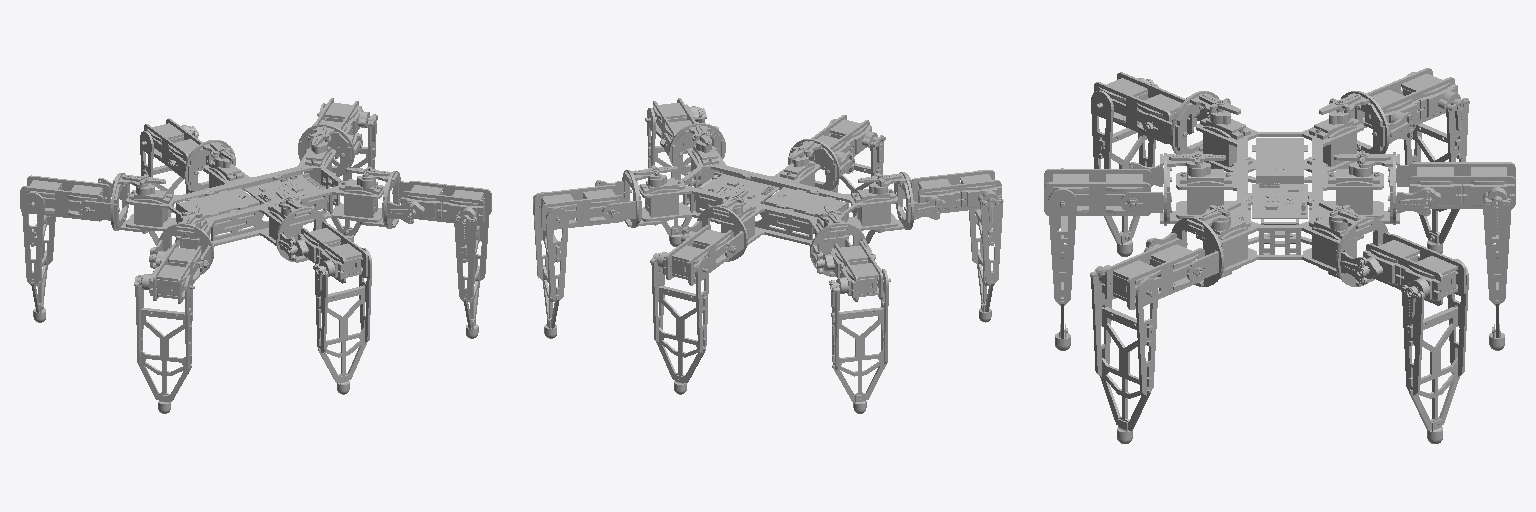
--- Render facts (derived) ---
The picture shows the robot from 3 angles, left to right: view 1: azimuth 30°, elevation 25°; view 2: azimuth 150°, elevation 25°; view 3: azimuth 270°, elevation 25°; orthographic projection.
Robot: Urdf_ConfigFiles — 37 links, 36 joints (36 revolute); root link base_link; default pose: all joints at 0.
Links seen in each view (by area): view 1: base_link, RM_XI_LINK, RB_XI_LINK, RF_ZHOU_LINK, RM_ZHOU_LINK, RF_XI_LINK, LB_XI_LINK, LB_ZHOU_LINK, RB_ZHOU_LINK, LB_JIAN_LINK, LM_ZHOU_LINK, RF_JIAN_LINK (+7 smaller); view 2: base_link, LM_XI_LINK, LB_XI_LINK, RB_ZHOU_LINK, LF_XI_LINK, LF_ZHOU_LINK, RB_XI_LINK, LM_ZHOU_LINK, LB_ZHOU_LINK, LF_JIAN_LINK, RM_ZHOU_LINK, RB_JIAN_LINK (+7 smaller); view 3: base_link, RF_XI_LINK, LF_XI_LINK, LF_ZHOU_LINK, LM_ZHOU_LINK, RF_ZHOU_LINK, RM_ZHOU_LINK, LB_ZHOU_LINK, RB_ZHOU_LINK, RB_XI_LINK, LB_XI_LINK, RM_XI_LINK (+7 smaller).
Link boxes in pixels (x1=…): base_link: x1=126, y1=134, x2=384, y2=249; RM_XI_LINK: x1=313, y1=248, x2=371, y2=394; RB_XI_LINK: x1=134, y1=275, x2=192, y2=413; RF_ZHOU_LINK: x1=401, y1=181, x2=491, y2=225; RM_ZHOU_LINK: x1=294, y1=223, x2=367, y2=283; RF_XI_LINK: x1=454, y1=195, x2=488, y2=338; LB_XI_LINK: x1=22, y1=192, x2=55, y2=322; LB_ZHOU_LINK: x1=20, y1=175, x2=110, y2=221; RB_ZHOU_LINK: x1=141, y1=243, x2=209, y2=303; LB_JIAN_LINK: x1=78, y1=173, x2=165, y2=232; LM_ZHOU_LINK: x1=141, y1=118, x2=214, y2=173; RF_JIAN_LINK: x1=346, y1=166, x2=415, y2=228; base_link: x1=638, y1=133, x2=897, y2=254; LM_XI_LINK: x1=650, y1=253, x2=708, y2=394; LB_XI_LINK: x1=829, y1=269, x2=888, y2=413; RB_ZHOU_LINK: x1=911, y1=170, x2=1001, y2=212; LF_XI_LINK: x1=533, y1=192, x2=568, y2=338; LF_ZHOU_LINK: x1=534, y1=184, x2=624, y2=230; RB_XI_LINK: x1=969, y1=170, x2=1003, y2=322; LM_ZHOU_LINK: x1=658, y1=225, x2=736, y2=285; LB_ZHOU_LINK: x1=823, y1=241, x2=890, y2=301; LF_JIAN_LINK: x1=595, y1=165, x2=677, y2=227; RM_ZHOU_LINK: x1=809, y1=115, x2=877, y2=174; RB_JIAN_LINK: x1=858, y1=172, x2=942, y2=231; base_link: x1=1176, y1=100, x2=1383, y2=274; RF_XI_LINK: x1=1090, y1=266, x2=1157, y2=443; LF_XI_LINK: x1=1400, y1=259, x2=1468, y2=443; LF_ZHOU_LINK: x1=1361, y1=234, x2=1465, y2=305; LM_ZHOU_LINK: x1=1409, y1=162, x2=1515, y2=208; RF_ZHOU_LINK: x1=1099, y1=238, x2=1204, y2=309; RM_ZHOU_LINK: x1=1044, y1=169, x2=1150, y2=215; LB_ZHOU_LINK: x1=1355, y1=68, x2=1460, y2=128; RB_ZHOU_LINK: x1=1094, y1=72, x2=1199, y2=143; RB_XI_LINK: x1=1091, y1=79, x2=1158, y2=256; LB_XI_LINK: x1=1402, y1=72, x2=1469, y2=253; RM_XI_LINK: x1=1048, y1=168, x2=1076, y2=350.
Bounding box of the posed robot: 0.316 × 0.2904 × 0.1331 m (x, y, z).
31 mesh visuals loaded from 37 distinct referenced files (31 binary STL); not drawn: 6 (reference not matched to a file when rendering).

The robot description file, URDF, robot "Urdf_ConfigFiles":
<?xml version="1.0" encoding="utf-8"?>
<!-- This URDF was automatically created by SolidWorks to URDF Exporter! Originally created by Stephen Brawner ([email redacted]) 
     Commit Version: 1.6.0-4-g7f85cfe  Build Version: 1.6.7995.38578
     For more information, please see http://wiki.ros.org/sw_urdf_exporter -->
<robot
  name="Urdf_ConfigFiles">
  <link
    name="base_link">
    <inertial>
      <origin
        xyz="-0.00495925277676378 -3.90134842870204E-05 0.00279738369756694"
        rpy="0 0 0" />
      <mass
        value="0.118532698310348" />
      <inertia
        ixx="2.97417988958695E-05"
        ixy="1.96289279267123E-08"
        ixz="-3.18825711531161E-08"
        iyy="7.40672823931806E-05"
        iyz="2.6699219579544E-10"
        izz="9.60808739626506E-05" />
    </inertial>
    <visual>
      <origin
        xyz="0 0 0"
        rpy="0 0 0" />
      <geometry>
        <mesh
          filename="package://Urdf_ConfigFiles/meshes/base_link.STL" />
      </geometry>
      <material
        name="">
        <color
          rgba="0.752941176470588 0.752941176470588 0.752941176470588 1" />
      </material>
    </visual>
    <collision>
      <origin
        xyz="0 0 0"
        rpy="0 0 0" />
      <geometry>
        <mesh
          filename="package://Urdf_ConfigFiles/meshes/base_link.STL" />
      </geometry>
    </collision>
  </link>
  <link
    name="RM_JIAN_LINK">
    <inertial>
      <origin
        xyz="0.0187543594677149 -0.000379261050061135 0.000812950598078848"
        rpy="0 0 0" />
      <mass
        value="0.00699822854338534" />
      <inertia
        ixx="9.5610462415327E-07"
        ixy="-3.93695610685643E-10"
        ixz="-7.71981360447323E-11"
        iyy="6.83941781535081E-07"
        iyz="5.4014319561666E-12"
        izz="6.84612495216708E-07" />
    </inertial>
    <visual>
      <origin
        xyz="0 0 0"
        rpy="0 0 0" />
      <geometry>
        <mesh
          filename="package://Urdf_ConfigFiles/meshes/RM_JIAN_LINK.STL" />
      </geometry>
      <material
        name="">
        <color
          rgba="0.752941176470588 0.752941176470588 0.752941176470588 1" />
      </material>
    </visual>
    <collision>
      <origin
        xyz="0 0 0"
        rpy="0 0 0" />
      <geometry>
        <mesh
          filename="package://Urdf_ConfigFiles/meshes/RM_JIAN_LINK.STL" />
      </geometry>
    </collision>
  </link>
  <joint
    name="RM_JIAN_JOINT"
    type="revolute">
    <origin
      xyz="0 -0.050828 0.0045"
      rpy="0 0 -1.5708" />
    <parent
      link="base_link" />
    <child
      link="RM_JIAN_LINK" />
    <axis
      xyz="0 0 1" />
    <limit
      lower="-1.5708"
      upper="1.5708"
      effort="0"
      velocity="0" />
  </joint>
  <link
    name="RM_ZHOU_LINK">
    <inertial>
      <origin
        xyz="0.0212109550888898 -1.20022572680017E-05 0.00316734503657168"
        rpy="0 0 0" />
      <mass
        value="0.023428071079214" />
      <inertia
        ixx="1.44008103643533E-06"
        ixy="7.11079687137408E-13"
        ixz="1.11808960635764E-14"
        iyy="3.27271769052332E-06"
        iyz="-5.61999736575962E-15"
        izz="2.55442792425579E-06" />
    </inertial>
    <visual>
      <origin
        xyz="0 0 0"
        rpy="0 0 0" />
      <geometry>
        <mesh
          filename="package://Urdf_ConfigFiles/meshes/RM_ZHOU_LINK.STL" />
      </geometry>
      <material
        name="">
        <color
          rgba="0.752941176470588 0.752941176470588 0.752941176470588 1" />
      </material>
    </visual>
    <collision>
      <origin
        xyz="0 0 0"
        rpy="0 0 0" />
      <geometry>
        <mesh
          filename="package://Urdf_ConfigFiles/meshes/RM_ZHOU_LINK.STL" />
      </geometry>
    </collision>
  </link>
  <joint
    name="RM_ZHOU_JOINT"
    type="revolute">
    <origin
      xyz="0.039955 0.0049 0.0001"
      rpy="1.5708 0 0" />
    <parent
      link="RM_JIAN_LINK" />
    <child
      link="RM_ZHOU_LINK" />
    <axis
      xyz="0 0 1" />
    <limit
      lower="-1.5708"
      upper="1.5708"
      effort="0"
      velocity="0" />
  </joint>
  <link
    name="RM_XI_LINK">
    <inertial>
      <origin
        xyz="0.0466384686418486 -7.84327888617709E-05 0.000588778480515891"
        rpy="0 0 0" />
      <mass
        value="0.00724422080433269" />
      <inertia
        ixx="4.47759491491986E-07"
        ixy="-3.05207207854443E-11"
        ixz="-3.89529951404105E-10"
        iyy="3.11680934014267E-06"
        iyz="5.401367042749E-12"
        izz="2.82563849115435E-06" />
    </inertial>
    <visual>
      <origin
        xyz="0 0 0"
        rpy="0 0 0" />
      <geometry>
        <mesh
          filename="package://Urdf_ConfigFiles/meshes/RM_XI_LINK.STL" />
      </geometry>
      <material
        name="">
        <color
          rgba="0.752941176470588 0.752941176470588 0.752941176470588 1" />
      </material>
    </visual>
    <collision>
      <origin
        xyz="0 0 0"
        rpy="0 0 0" />
      <geometry>
        <mesh
          filename="package://Urdf_ConfigFiles/meshes/RM_XI_LINK.STL" />
      </geometry>
    </collision>
  </link>
  <joint
    name="RM_XI_JOINT"
    type="revolute">
    <origin
      xyz="0.043146 0 0.004675"
      rpy="0 0 -1.5708" />
    <parent
      link="RM_ZHOU_LINK" />
    <child
      link="RM_XI_LINK" />
    <axis
      xyz="0 0 1" />
    <limit
      lower="-1.5708"
      upper="1.5708"
      effort="0"
      velocity="0" />
  </joint>
  <link
    name="RM_R_LINK">
    <inertial>
      <origin
        xyz="-6.88468379528295E-18 0 -1.38777878078145E-17"
        rpy="0 0 0" />
      <mass
        value="5.23598775598299E-07" />
      <inertia
        ixx="5.23598775598299E-14"
        ixy="0"
        ixz="0"
        iyy="5.23598775598299E-14"
        iyz="0"
        izz="5.23598775598299E-14" />
    </inertial>
    <visual>
      <origin
        xyz="0 0 0"
        rpy="0 0 0" />
      <geometry>
        <mesh
          filename="package://Urdf_ConfigFiles/meshes/RM_R_LINK.STL" />
      </geometry>
      <material
        name="">
        <color
          rgba="1 1 1 1" />
      </material>
    </visual>
    <collision>
      <origin
        xyz="0 0 0"
        rpy="0 0 0" />
      <geometry>
        <mesh
          filename="package://Urdf_ConfigFiles/meshes/RM_R_LINK.STL" />
      </geometry>
    </collision>
  </link>
  <joint
    name="RM_R_JOINT"
    type="revolute">
    <origin
      xyz="0.10465 -5E-05 0"
      rpy="3.1416 1.5708 0" />
    <parent
      link="RM_XI_LINK" />
    <child
      link="RM_R_LINK" />
    <axis
      xyz="0 0 -1" />
    <limit
      lower="-1.5708"
      upper="1.5708"
      effort="0"
      velocity="0" />
  </joint>
  <link
    name="RM_P_LINK">
    <inertial>
      <origin
        xyz="1.38777878078145E-17 -2.77555756156289E-17 -6.88468379528295E-18"
        rpy="0 0 0" />
      <mass
        value="5.23598775598299E-07" />
      <inertia
        ixx="5.23598775598299E-14"
        ixy="-6.68116840734896E-33"
        ixz="-1.55575381946529E-61"
        iyy="5.23598775598299E-14"
        iyz="-2.18952885050753E-47"
        izz="5.23598775598299E-14" />
    </inertial>
    <visual>
      <origin
        xyz="0 0 0"
        rpy="0 0 0" />
      <geometry>
        <mesh
          filename="package://Urdf_ConfigFiles/meshes/RM_P_LINK.STL" />
      </geometry>
      <material
        name="">
        <color
          rgba="1 1 1 1" />
      </material>
    </visual>
    <collision>
      <origin
        xyz="0 0 0"
        rpy="0 0 0" />
      <geometry>
        <mesh
          filename="package://Urdf_ConfigFiles/meshes/RM_P_LINK.STL" />
      </geometry>
    </collision>
  </link>
  <joint
    name="RM_P_JOINT"
    type="revolute">
    <origin
      xyz="0 0 0"
      rpy="0 1.5708 0" />
    <parent
      link="RM_R_LINK" />
    <child
      link="RM_P_LINK" />
    <axis
      xyz="0 0 1" />
    <limit
      lower="-1.5708"
      upper="1.5708"
      effort="0"
      velocity="0" />
  </joint>
  <link
    name="RM_Y_LINK">
    <inertial>
      <origin
        xyz="1.38777878078145E-17 -9.05308814025396E-18 5.55111512312578E-17"
        rpy="0 0 0" />
      <mass
        value="5.23598775598299E-07" />
      <inertia
        ixx="5.23598775598299E-14"
        ixy="0"
        ixz="0"
        iyy="5.23598775598299E-14"
        iyz="-2.18952885050753E-47"
        izz="5.23598775598299E-14" />
    </inertial>
    <visual>
      <origin
        xyz="0 0 0"
        rpy="0 0 0" />
      <geometry>
        <mesh
          filename="package://Urdf_ConfigFiles/meshes/RM_Y_LINK.STL" />
      </geometry>
      <material
        name="">
        <color
          rgba="1 1 1 1" />
      </material>
    </visual>
    <collision>
      <origin
        xyz="0 0 0"
        rpy="0 0 0" />
      <geometry>
        <mesh
          filename="package://Urdf_ConfigFiles/meshes/RM_Y_LINK.STL" />
      </geometry>
    </collision>
  </link>
  <joint
    name="RM_Y_JOINT"
    type="revolute">
    <origin
      xyz="0 0 0"
      rpy="1.5708 0 0" />
    <parent
      link="RM_P_LINK" />
    <child
      link="RM_Y_LINK" />
    <axis
      xyz="0 0 -1" />
    <limit
      lower="-1.5708"
      upper="1.5708"
      effort="0"
      velocity="0" />
  </joint>
  <link
    name="RF_JIAN_LINK">
    <inertial>
      <origin
        xyz="0.0187543594239746 -0.000379261041653148 0.000812950580056213"
        rpy="0 0 0" />
      <mass
        value="0.006998228698532" />
      <inertia
        ixx="9.56104624157523E-07"
        ixy="-3.93695610685637E-10"
        ixz="-7.71981360447407E-11"
        iyy="6.83941781705483E-07"
        iyz="5.40143195606536E-12"
        izz="6.84612495387111E-07" />
    </inertial>
    <visual>
      <origin
        xyz="0 0 0"
        rpy="0 0 0" />
      <geometry>
        <mesh
          filename="package://Urdf_ConfigFiles/meshes/RF_JIAN_LINK.STL" />
      </geometry>
      <material
        name="">
        <color
          rgba="0.752941176470588 0.752941176470588 0.752941176470588 1" />
      </material>
    </visual>
    <collision>
      <origin
        xyz="0 0 0"
        rpy="0 0 0" />
      <geometry>
        <mesh
          filename="package://Urdf_ConfigFiles/meshes/RF_JIAN_LINK.STL" />
      </geometry>
    </collision>
  </link>
  <joint
    name="RF_JIAN_JOINT"
    type="revolute">
    <origin
      xyz="0.077746 -0.036979 0.0047"
      rpy="0 0 -0.7854" />
    <parent
      link="base_link" />
    <child
      link="RF_JIAN_LINK" />
    <axis
      xyz="0 0 1" />
    <limit
      lower="-1.5708"
      upper="1.5708"
      effort="0"
      velocity="0" />
  </joint>
  <link
    name="RF_ZHOU_LINK">
    <inertial>
      <origin
        xyz="0.0212109520763576 -1.20023545394973E-05 0.00316723430018339"
        rpy="0 0 0" />
      <mass
        value="0.0234278880986834" />
      <inertia
        ixx="1.44006193707477E-06"
        ixy="-4.51032339993588E-12"
        ixz="1.20700056225565E-14"
        iyy="3.27264695060537E-06"
        iyz="-5.77126578240722E-15"
        izz="2.55438959466493E-06" />
    </inertial>
    <visual>
      <origin
        xyz="0 0 0"
        rpy="0 0 0" />
      <geometry>
        <mesh
          filename="package://Urdf_ConfigFiles/meshes/RF_ZHOU_LINK.STL" />
      </geometry>
      <material
        name="">
        <color
          rgba="0.752941176470588 0.752941176470588 0.752941176470588 1" />
      </material>
    </visual>
    <collision>
      <origin
        xyz="0 0 0"
        rpy="0 0 0" />
      <geometry>
        <mesh
          filename="package://Urdf_ConfigFiles/meshes/RF_ZHOU_LINK.STL" />
      </geometry>
    </collision>
  </link>
  <joint
    name="RF_ZHOU_JOINT"
    type="revolute">
    <origin
      xyz="0.03995 0.0047 0"
      rpy="1.5708 0 0" />
    <parent
      link="RF_JIAN_LINK" />
    <child
      link="RF_ZHOU_LINK" />
    <axis
      xyz="0 0 1" />
    <limit
      lower="-1.5708"
      upper="1.5708"
      effort="0"
      velocity="0" />
  </joint>
  <link
    name="RF_XI_LINK">
    <inertial>
      <origin
        xyz="0.0466384689069635 -7.84328003208545E-05 0.000588778477364212"
        rpy="0 0 0" />
      <mass
        value="0.00724422084311935" />
      <inertia
        ixx="4.47759491534585E-07"
        ixy="-3.05207207857134E-11"
        ixz="-3.89529951428146E-10"
        iyy="3.11680934014373E-06"
        iyz="5.40136700286257E-12"
        izz="2.82563849119695E-06" />
    </inertial>
    <visual>
      <origin
        xyz="0 0 0"
        rpy="0 0 0" />
      <geometry>
        <mesh
          filename="package://Urdf_ConfigFiles/meshes/RF_XI_LINK.STL" />
      </geometry>
      <material
        name="">
        <color
          rgba="0.752941176470588 0.752941176470588 0.752941176470588 1" />
      </material>
    </visual>
    <collision>
      <origin
        xyz="0 0 0"
        rpy="0 0 0" />
      <geometry>
        <mesh
          filename="package://Urdf_ConfigFiles/meshes/RF_XI_LINK.STL" />
      </geometry>
    </collision>
  </link>
  <joint
    name="RF_XI_JOINT"
    type="revolute">
    <origin
      xyz="0.043146 0 0.004675"
      rpy="0 0 -1.5708" />
    <parent
      link="RF_ZHOU_LINK" />
    <child
      link="RF_XI_LINK" />
    <axis
      xyz="0 0 1" />
    <limit
      lower="-1.5708"
      upper="1.5708"
      effort="0"
      velocity="0" />
  </joint>
  <link
    name="RF_R_LINK">
    <inertial>
      <origin
        xyz="5.55111512312578E-17 -1.23512311489549E-15 1.17961196366423E-15"
        rpy="0 0 0" />
      <mass
        value="5.23598775598299E-07" />
      <inertia
        ixx="5.23598775598299E-14"
        ixy="0"
        ixz="0"
        iyy="5.23598775598299E-14"
        iyz="0"
        izz="5.23598775598299E-14" />
    </inertial>
    <visual>
      <origin
        xyz="0 0 0"
        rpy="0 0 0" />
      <geometry>
        <mesh
          filename="package://Urdf_ConfigFiles/meshes/RF_R_LINK.STL" />
      </geometry>
      <material
        name="">
        <color
          rgba="1 1 1 1" />
      </material>
    </visual>
    <collision>
      <origin
        xyz="0 0 0"
        rpy="0 0 0" />
      <geometry>
        <mesh
          filename="package://Urdf_ConfigFiles/meshes/RF_R_LINK.STL" />
      </geometry>
    </collision>
  </link>
  <joint
    name="RF_R_JOINT"
    type="revolute">
    <origin
      xyz="0.10465 -5E-05 0"
      rpy="-1.5708 0.7854 1.5708" />
    <parent
      link="RF_XI_LINK" />
    <child
      link="RF_R_LINK" />
    <axis
      xyz="0 0 1" />
    <limit
      lower="-1.5708"
      upper="1.5708"
      effort="0"
      velocity="0" />
  </joint>
  <link
    name="RF_P_LINK">
    <inertial>
      <origin
        xyz="-7.35522753814166E-16 -7.07767178198537E-16 5.55111512312578E-17"
        rpy="0 0 0" />
      <mass
        value="5.23598775598299E-07" />
      <inertia
        ixx="5.23598775598299E-14"
        ixy="-1.33623368146977E-32"
        ixz="-3.11150763893057E-61"
        iyy="5.23598775598299E-14"
        iyz="-2.18952885050753E-47"
        izz="5.23598775598299E-14" />
    </inertial>
    <visual>
      <origin
        xyz="0 0 0"
        rpy="0 0 0" />
      <geometry>
        <mesh
          filename="package://Urdf_ConfigFiles/meshes/RF_P_LINK.STL" />
      </geometry>
      <material
        name="">
        <color
          rgba="1 1 1 1" />
      </material>
    </visual>
    <collision>
      <origin
        xyz="0 0 0"
        rpy="0 0 0" />
      <geometry>
        <mesh
          filename="package://Urdf_ConfigFiles/meshes/RF_P_LINK.STL" />
      </geometry>
    </collision>
  </link>
  <joint
    name="RF_P_LINK"
    type="revolute">
    <origin
      xyz="0 0 0"
      rpy="0 1.5708 0" />
    <parent
      link="RF_R_LINK" />
    <child
      link="RF_P_LINK" />
    <axis
      xyz="0 0 1" />
    <limit
      lower="-1.5708"
      upper="1.5708"
      effort="0"
      velocity="0" />
  </joint>
  <link
    name="RF_Y_LINK">
    <inertial>
      <origin
        xyz="-1.17961196366423E-15 5.55111512312578E-17 1.23512311489549E-15"
        rpy="0 0 0" />
      <mass
        value="5.23598775598299E-07" />
      <inertia
        ixx="5.23598775598299E-14"
        ixy="0"
        ixz="-7.59645419660809E-62"
        iyy="5.23598775598299E-14"
        iyz="1.87267054187694E-93"
        izz="5.23598775598299E-14" />
    </inertial>
    <visual>
      <origin
        xyz="0 0 0"
        rpy="0 0 0" />
      <geometry>
        <mesh
          filename="package://Urdf_ConfigFiles/meshes/RF_Y_LINK.STL" />
      </geometry>
      <material
        name="">
        <color
          rgba="1 1 1 1" />
      </material>
    </visual>
    <collision>
      <origin
        xyz="0 0 0"
        rpy="0 0 0" />
      <geometry>
        <mesh
          filename="package://Urdf_ConfigFiles/meshes/RF_Y_LINK.STL" />
      </geometry>
    </collision>
  </link>
  <joint
    name="RF_Y_JOINT"
    type="revolute">
    <origin
      xyz="0 0 0"
      rpy="1.5708 0 0" />
    <parent
      link="RF_P_LINK" />
    <child
      link="RF_Y_LINK" />
    <axis
      xyz="0 0 -1" />
    <limit
      lower="-1.5708"
      upper="1.5708"
      effort="0"
      velocity="0" />
  </joint>
  <link
    name="LF_JIAN_LINK">
    <inertial>
      <origin
        xyz="0.0187543594239746 -0.000379261041653173 0.000812950580056271"
        rpy="0 0 0" />
      <mass
        value="0.006998228698532" />
      <inertia
        ixx="9.56104624157522E-07"
        ixy="-3.9369561068569E-10"
        ixz="-7.71981360439546E-11"
        iyy="6.83941781705483E-07"
        iyz="5.40143195614686E-12"
        izz="6.8461249538711E-07" />
    </inertial>
    <visual>
      <origin
        xyz="0 0 0"
        rpy="0 0 0" />
      <geometry>
        <mesh
          filename="package://Urdf_ConfigFiles/meshes/LF_JIAN_LINK.STL" />
      </geometry>
      <material
        name="">
        <color
          rgba="0.752941176470588 0.752941176470588 0.752941176470588 1" />
      </material>
    </visual>
    <collision>
      <origin
        xyz="0 0 0"
        rpy="0 0 0" />
      <geometry>
        <mesh
          filename="package://Urdf_ConfigFiles/meshes/LF_JIAN_LINK.STL" />
      </geometry>
    </collision>
  </link>
  <joint
    name="LF_JIAN_JOINT"
    type="revolute">
    <origin
      xyz="0.077746 0.036979 0.0047"
      rpy="0 0 0.7854" />
    <parent
      link="base_link" />
    <child
      link="LF_JIAN_LINK" />
    <axis
      xyz="0 0 1" />
    <limit
      lower="-1.5708"
      upper="1.5708"
      effort="0"
      velocity="0" />
  </joint>
  <link
    name="LF_ZHOU_LINK">
    <inertial>
      <origin
        xyz="0.0212109520763105 -1.20023545296362E-05 0.00316723430032838"
        rpy="0 0 0" />
      <mass
        value="0.0234278880989933" />
      <inertia
        ixx="1.44006193710144E-06"
        ixy="-4.51031569642036E-12"
        ixz="1.20666170143106E-14"
        iyy="3.27264695063795E-06"
        iyz="-5.77408521079948E-15"
        izz="2.55438959467984E-06" />
    </inertial>
    <visual>
      <origin
        xyz="0 0 0"
        rpy="0 0 0" />
      <geometry>
        <mesh
          filename="package://Urdf_ConfigFiles/meshes/LF_ZHOU_LINK.STL" />
      </geometry>
      <material
        name="">
        <color
          rgba="0.752941176470588 0.752941176470588 0.752941176470588 1" />
      </material>
    </visual>
    <collision>
      <origin
        xyz="0 0 0"
        rpy="0 0 0" />
      <geometry>
        <mesh
          filename="package://Urdf_ConfigFiles/meshes/LF_ZHOU_LINK.STL" />
      </geometry>
    </collision>
  </link>
  <joint
    name="LF_ZHOU_JOINT"
    type="revolute">
    <origin
      xyz="0.03995 0.0047 0"
      rpy="1.5708 0 0" />
    <parent
      link="LF_JIAN_LINK" />
    <child
      link="LF_ZHOU_LINK" />
    <axis
      xyz="0 0 1" />
    <limit
      lower="-1.5708"
      upper="1.5708"
      effort="0"
      velocity="0" />
  </joint>
  <link
    name="LF_XI_LINK">
    <inertial>
      <origin
        xyz="0.046638468906964 -2.84328003209711E-05 0.000588778477360656"
        rpy="0 0 0" />
      <mass
        value="0.00724422084311936" />
      <inertia
        ixx="4.47759491534586E-07"
        ixy="-3.05207207856908E-11"
        ixz="-3.89529951402964E-10"
        iyy="3.11680934014374E-06"
        iyz="5.40136704277916E-12"
        izz="2.82563849119696E-06" />
    </inertial>
    <visual>
      <origin
        xyz="0 0 0"
        rpy="0 0 0" />
      <geometry>
        <mesh
          filename="package://Urdf_ConfigFiles/meshes/LF_XI_LINK.STL" />
      </geometry>
      <material
        name="">
        <color
          rgba="0.752941176470588 0.752941176470588 0.752941176470588 1" />
      </material>
    </visual>
    <collision>
      <origin
        xyz="0 0 0"
        rpy="0 0 0" />
      <geometry>
        <mesh
          filename="package://Urdf_ConfigFiles/meshes/LF_XI_LINK.STL" />
      </geometry>
    </collision>
  </link>
  <joint
    name="LF_XI_JOINT"
    type="revolute">
    <origin
      xyz="0.043096 0 0.004675"
      rpy="0 0 -1.5708" />
    <parent
      link="LF_ZHOU_LINK" />
    <child
      link="LF_XI_LINK" />
    <axis
      xyz="0 0 1" />
    <limit
      lower="-1.5708"
      upper="1.5708"
      effort="0"
      velocity="0" />
  </joint>
  <link
    name="LF_R_LINK">
    <inertial>
      <origin
        xyz="5.55111512312578E-17 2.77555756156289E-17 4.16333634234434E-17"
        rpy="0 0 0" />
      <mass
        value="5.23598775598299E-07" />
      <inertia
        ixx="5.23598775598299E-14"
        ixy="-1.46626343100792E-72"
        ixz="0"
        iyy="5.23598775598299E-14"
        iyz="0"
        izz="5.23598775598299E-14" />
    </inertial>
    <visual>
      <origin
        xyz="0 0 0"
        rpy="0 0 0" />
      <geometry>
        <mesh
          filename="package://Urdf_ConfigFiles/meshes/LF_R_LINK.STL" />
      </geometry>
      <material
        name="">
        <color
          rgba="1 1 1 1" />
      </material>
    </visual>
    <collision>
      <origin
        xyz="0 0 0"
        rpy="0 0 0" />
      <geometry>
        <mesh
          filename="package://Urdf_ConfigFiles/meshes/LF_R_LINK.STL" />
      </geometry>
    </collision>
  </link>
  <joint
    name="LF_R_JOINT"
    type="revolute">
    <origin
      xyz="0.10465 0 0"
      rpy="-1.5708 -0.7854 1.5708" />
    <parent
      link="LF_XI_LINK" />
    <child
      link="LF_R_LINK" />
    <axis
      xyz="0 0 -1" />
    <limit
      lower="-1.5708"
      upper="1.5708"
      effort="0"
      velocity="0" />
  </joint>
  <link
    name="LF_P_LINK">
    <inertial>
      <origin
        xyz="-4.16333634234434E-17 2.77555756156289E-17 5.55111512312578E-17"
        rpy="0 0 0" />
      <mass
        value="5.23598775598299E-07" />
      <inertia
        ixx="5.23598775598299E-14"
        ixy="1.12284965133098E-45"
        ixz="-9.28514645213293E-47"
        iyy="5.23598775598299E-14"
        iyz="6.07153216591882E-31"
        izz="5.23598775598299E-14" />
    </inertial>
    <visual>
      <origin
        xyz="0 0 0"
        rpy="0 0 0" />
      <geometry>
        <mesh
          filename="package://Urdf_ConfigFiles/meshes/LF_P_LINK.STL" />
      </geometry>
      <material
        name="">
        <color
          rgba="1 1 1 1" />
      </material>
    </visual>
    <collision>
      <origin
        xyz="0 0 0"
        rpy="0 0 0" />
      <geometry>
        <mesh
          filename="package://Urdf_ConfigFiles/meshes/LF_P_LINK.STL" />
      </geometry>
    </collision>
  </link>
  <joint
    name="LF_P_JOINT"
    type="revolute">
    <origin
      xyz="0 0 0"
      rpy="0 1.5708 0" />
    <parent
      link="LF_R_LINK" />
    <child
      link="LF_P_LINK" />
    <axis
      xyz="0 0 -1" />
    <limit
      lower="-1.5708"
      upper="1.5708"
      effort="0"
      velocity="0" />
  </joint>
  <link
    name="LF_Y_LINK">
    <inertial>
      <origin
        xyz="0 2.77555756156289E-17 -1.38777878078145E-17"
        rpy="0 0 0" />
      <mass
        value="5.23598775598299E-07" />
      <inertia
        ixx="5.23598775598299E-14"
        ixy="0"
        ixz="0"
        iyy="5.23598775598299E-14"
        iyz="1.46626343100792E-72"
        izz="5.23598775598299E-14" />
    </inertial>
    <visual>
      <origin
        xyz="0 0 0"
        rpy="0 0 0" />
      <geometry>
        <mesh
          filename="package://Urdf_ConfigFiles/meshes/LF_Y_LINK.STL" />
      </geometry>
      <material
        name="">
        <color
          rgba="1 1 1 1" />
      </material>
    </visual>
    <collision>
      <origin
        xyz="0 0 0"
        rpy="0 0 0" />
      <geometry>
        <mesh
          filename="package://Urdf_ConfigFiles/meshes/LF_Y_LINK.STL" />
      </geometry>
    </collision>
  </link>
  <joint
    name="LF_Y_JOINT"
    type="revolute">
    <origin
      xyz="0 0 0"
      rpy="1.5708 0 0" />
    <parent
      link="LF_P_LINK" />
    <child
      link="LF_Y_LINK" />
    <axis
      xyz="0 0 -1" />
    <limit
      lower="-1.5708"
      upper="1.5708"
      effort="0"
      velocity="0" />
  </joint>
  <link
    name="LM_JIAN_LINK">
    <inertial>
      <origin
        xyz="0.0187543594677149 -0.000379261050061133 0.000812950598078908"
        rpy="0 0 0" />
      <mass
        value="0.00699822854338534" />
      <inertia
        ixx="9.5610462415327E-07"
        ixy="-3.93695610685641E-10"
        ixz="-7.71981360440999E-11"
        iyy="6.83941781535081E-07"
        iyz="5.40143195618265E-12"
        izz="6.84612495216709E-07" />
    </inertial>
    <visual>
      <origin
        xyz="0 0 0"
        rpy="0 0 0" />
      <geometry>
        <mesh
          filename="package://Urdf_ConfigFiles/meshes/LM_JIAN_LINK.STL" />
      </geometry>
      <material
        name="">
        <color
          rgba="0.752941176470588 0.752941176470588 0.752941176470588 1" />
      </material>
    </visual>
    <collision>
      <origin
        xyz="0 0 0"
        rpy="0 0 0" />
      <geometry>
        <mesh
          filename="package://Urdf_ConfigFiles/meshes/LM_JIAN_LINK.STL" />
      </geometry>
    </collision>
  </link>
  <joint
    name="LM_JIAN_JOINT"
    type="revolute">
    <origin
      xyz="0 0.050828 0.0047"
      rpy="0 0 1.5708" />
    <parent
      link="base_link" />
    <child
      link="LM_JIAN_LINK" />
    <axis
      xyz="0 0 1" />
    <limit
      lower="-1.5708"
      upper="1.5708"
      effort="0"
      velocity="0" />
  </joint>
  <link
    name="LM_ZHOU_LINK">
    <inertial>
      <origin
        xyz="0.0212109550892057 -1.20022572315239E-05 0.00316734503662596"
        rpy="0 0 0" />
      <mass
        value="0.0234280710793364" />
      <inertia
        ixx="1.44008103644432E-06"
        ixy="7.11091725844634E-13"
        ixz="1.11688116052365E-14"
        iyy="3.27271769054075E-06"
        iyz="-5.62577642121198E-15"
        izz="2.55442792426713E-06" />
    </inertial>
    <visual>
      <origin
        xyz="0 0 0"
        rpy="0 0 0" />
      <geometry>
        <mesh
          filename="package://Urdf_ConfigFiles/meshes/LM_ZHOU_LINK.STL" />
      </geometry>
      <material
        name="">
        <color
          rgba="0.752941176470588 0.752941176470588 0.752941176470588 1" />
      </material>
    </visual>
    <collision>
      <origin
        xyz="0 0 0"
        rpy="0 0 0" />
      <geometry>
        <mesh
          filename="package://Urdf_ConfigFiles/meshes/LM_ZHOU_LINK.STL" />
      </geometry>
    </collision>
  </link>
  <joint
    name="LM_ZHOU_JOINT"
    type="revolute">
    <origin
      xyz="0.03995 0.0047 0"
      rpy="1.5708 0 0" />
    <parent
      link="LM_JIAN_LINK" />
    <child
      link="LM_ZHOU_LINK" />
    <axis
      xyz="0 0 1" />
    <limit
      lower="-1.5708"
      upper="1.5708"
      effort="0"
      velocity="0" />
  </joint>
  <link
    name="LM_XI_LINK">
    <inertial>
      <origin
        xyz="0.0466384686418475 -2.84327888619151E-05 0.000588778480513147"
        rpy="0 0 0" />
      <mass
        value="0.00724422080433268" />
      <inertia
        ixx="4.47759491491984E-07"
        ixy="-3.05207207853711E-11"
        ixz="-3.89529951404096E-10"
        iyy="3.11680934014266E-06"
        iyz="5.40136704276145E-12"
        izz="2.82563849115434E-06" />
    </inertial>
    <visual>
      <origin
        xyz="0 0 0"
        rpy="0 0 0" />
      <geometry>
        <mesh
          filename="package://Urdf_ConfigFiles/meshes/LM_XI_LINK.STL" />
      </geometry>
      <material
        name="">
        <color
          rgba="0.752941176470588 0.752941176470588 0.752941176470588 1" />
      </material>
    </visual>
    <collision>
      <origin
        xyz="0 0 0"
        rpy="0 0 0" />
      <geometry>
        <mesh
          filename="package://Urdf_ConfigFiles/meshes/LM_XI_LINK.STL" />
      </geometry>
    </collision>
  </link>
  <joint
    name="LM_XI_JOINT"
    type="revolute">
    <origin
      xyz="0.043096 0 0.004675"
      rpy="0 0 -1.5708" />
    <parent
      link="LM_ZHOU_LINK" />
    <child
      link="LM_XI_LINK" />
    <axis
      xyz="0 0 1" />
    <limit
      lower="-1.5708"
      upper="1.5708"
      effort="0"
      velocity="0" />
  </joint>
  <link
    name="LM_R_LINK">
    <inertial>
      <origin
        xyz="-3.3881317890172E-21 0 0"
        rpy="0 0 0" />
      <mass
        value="5.23598775598299E-07" />
      <inertia
        ixx="5.23598775598299E-14"
        ixy="-1.46626343100792E-72"
        ixz="0"
        iyy="5.23598775598299E-14"
        iyz="0"
        izz="5.23598775598299E-14" />
    </inertial>
    <visual>
      <origin
        xyz="0 0 0"
        rpy="0 0 0" />
      <geometry>
        <mesh
          filename="package://Urdf_ConfigFiles/meshes/LM_R_LINK.STL" />
      </geometry>
      <material
        name="">
        <color
          rgba="1 1 1 1" />
      </material>
    </visual>
    <collision>
      <origin
        xyz="0 0 0"
        rpy="0 0 0" />
      <geometry>
        <mesh
          filename="package://Urdf_ConfigFiles/meshes/LM_R_LINK.STL" />
      </geometry>
    </collision>
  </link>
  <joint
    name="LM_R_JOINT"
    type="revolute">
    <origin
      xyz="0.10465 0 0"
      rpy="3.1416 -1.5708 0" />
    <parent
      link="LM_XI_LINK" />
    <child
      link="LM_R_LINK" />
    <axis
      xyz="0 0 -1" />
    <limit
      lower="-1.5708"
      upper="1.5708"
      effort="0"
      velocity="0" />
  </joint>
  <link
    name="LM_P_LINK">
    <inertial>
      <origin
        xyz="0 0 -1.30443073877162E-18"
        rpy="0 0 0" />
      <mass
        value="5.23598775598299E-07" />
      <inertia
        ixx="5.23598775598299E-14"
        ixy="0"
        ixz="0"
        iyy="5.23598775598299E-14"
        iyz="-1.46626343100792E-72"
        izz="5.23598775598299E-14" />
    </inertial>
    <visual>
      <origin
        xyz="0 0 0"
        rpy="0 0 0" />
      <geometry>
        <mesh
          filename="package://Urdf_ConfigFiles/meshes/LM_P_LINK.STL" />
      </geometry>
      <material
        name="">
        <color
          rgba="1 1 1 1" />
      </material>
    </visual>
    <collision>
      <origin
        xyz="0 0 0"
        rpy="0 0 0" />
      <geometry>
        <mesh
          filename="package://Urdf_ConfigFiles/meshes/LM_P_LINK.STL" />
      </geometry>
    </collision>
  </link>
  <joint
    name="LM_P_JOIINT"
    type="revolute">
    <origin
      xyz="0 0 0"
      rpy="0 1.5708 0" />
    <parent
      link="LM_R_LINK" />
    <child
      link="LM_P_LINK" />
    <axis
      xyz="0 0 -1" />
    <limit
      lower="-1.5708"
      upper="1.5708"
      effort="0"
      velocity="0" />
  </joint>
  <link
    name="LM_Y_LINK">
    <inertial>
      <origin
        xyz="0 -3.3881317890172E-21 0"
        rpy="0 0 0" />
      <mass
        value="5.23598775598299E-07" />
      <inertia
        ixx="5.23598775598299E-14"
        ixy="0"
        ixz="0"
        iyy="5.23598775598299E-14"
        iyz="1.46626343100792E-72"
        izz="5.23598775598299E-14" />
    </inertial>
    <visual>
      <origin
        xyz="0 0 0"
        rpy="0 0 0" />
      <geometry>
        <mesh
          filename="package://Urdf_ConfigFiles/meshes/LM_Y_LINK.STL" />
      </geometry>
      <material
        name="">
        <color
          rgba="1 1 1 1" />
      </material>
    </visual>
    <collision>
      <origin
        xyz="0 0 0"
        rpy="0 0 0" />
      <geometry>
        <mesh
          filename="package://Urdf_ConfigFiles/meshes/LM_Y_LINK.STL" />
      </geometry>
    </collision>
  </link>
  <joint
    name="LM_Y_JOINT"
    type="revolute">
    <origin
      xyz="0 0 0"
      rpy="1.5708 0 0" />
    <parent
      link="LM_P_LINK" />
    <child
      link="LM_Y_LINK" />
    <axis
      xyz="0 0 -1" />
    <limit
      lower="-1.5708"
      upper="1.5708"
      effort="0"
      velocity="0" />
  </joint>
  <link
    name="LB_JIAN_LINK">
    <inertial>
      <origin
        xyz="0.0187543594239746 -0.000379261041653159 0.000812950580056265"
        rpy="0 0 0" />
      <mass
        value="0.006998228698532" />
      <inertia
        ixx="9.56104624157523E-07"
        ixy="-3.9369561068569E-10"
        ixz="-7.71981360439205E-11"
        iyy="6.83941781705483E-07"
        iyz="5.40143195608328E-12"
        izz="6.8461249538711E-07" />
    </inertial>
    <visual>
      <origin
        xyz="0 0 0"
        rpy="0 0 0" />
      <geometry>
        <mesh
          filename="package://Urdf_ConfigFiles/meshes/LB_JIAN_LINK.STL" />
      </geometry>
      <material
        name="">
        <color
          rgba="0.752941176470588 0.752941176470588 0.752941176470588 1" />
      </material>
    </visual>
    <collision>
      <origin
        xyz="0 0 0"
        rpy="0 0 0" />
      <geometry>
        <mesh
          filename="package://Urdf_ConfigFiles/meshes/LB_JIAN_LINK.STL" />
      </geometry>
    </collision>
  </link>
  <joint
    name="LB_JIAN_JOINT"
    type="revolute">
    <origin
      xyz="-0.077746 0.036979 0.0047"
      rpy="0 0 2.3562" />
    <parent
      link="base_link" />
    <child
      link="LB_JIAN_LINK" />
    <axis
      xyz="0 0 1" />
    <limit
      lower="-1.5708"
      upper="1.5708"
      effort="0"
      velocity="0" />
  </joint>
  <link
    name="LB_ZHOU_LINK">
    <inertial>
      <origin
        xyz="0.0212109520762893 -1.20023545821853E-05 0.00316723430021992"
        rpy="0 0 0" />
      <mass
        value="0.0234278880987742" />
      <inertia
        ixx="1.4400619370826E-06"
        ixy="-4.51031291569567E-12"
        ixz="1.20698820616244E-14"
        iyy="3.27264695060804E-06"
        iyz="-5.76430442889303E-15"
        izz="2.5543895946667E-06" />
    </inertial>
    <visual>
      <origin
        xyz="0 0 0"
        rpy="0 0 0" />
      <geometry>
        <mesh
          filename="package://Urdf_ConfigFiles/meshes/LB_ZHOU_LINK.STL" />
      </geometry>
      <material
        name="">
        <color
          rgba="0.752941176470588 0.752941176470588 0.752941176470588 1" />
      </material>
    </visual>
    <collision>
      <origin
        xyz="0 0 0"
        rpy="0 0 0" />
      <geometry>
        <mesh
          filename="package://Urdf_ConfigFiles/meshes/LB_ZHOU_LINK.STL" />
      </geometry>
    </collision>
  </link>
  <joint
    name="LB_ZHOU_JOINT"
    type="revolute">
    <origin
      xyz="0.03995 0.0047 0"
      rpy="1.5708 0 0" />
    <parent
      link="LB_JIAN_LINK" />
    <child
      link="LB_ZHOU_LINK" />
    <axis
      xyz="0 0 1" />
    <limit
      lower="-1.5708"
      upper="1.5708"
      effort="0"
      velocity="0" />
  </joint>
  <link
    name="LB_XI_LINK">
    <inertial>
      <origin
        xyz="0.0466384689069637 -7.843280032091E-05 0.000588778477363761"
        rpy="0 0 0" />
      <mass
        value="0.00724422084311933" />
      <inertia
        ixx="4.47759491534584E-07"
        ixy="-3.05207207859682E-11"
        ixz="-3.89529951404155E-10"
        iyy="3.11680934014372E-06"
        iyz="5.40136704277938E-12"
        izz="2.82563849119694E-06" />
    </inertial>
    <visual>
      <origin
        xyz="0 0 0"
        rpy="0 0 0" />
      <geometry>
        <mesh
          filename="package://Urdf_ConfigFiles/meshes/LB_XI_LINK.STL" />
      </geometry>
      <material
        name="">
        <color
          rgba="0.752941176470588 0.752941176470588 0.752941176470588 1" />
      </material>
    </visual>
    <collision>
      <origin
        xyz="0 0 0"
        rpy="0 0 0" />
      <geometry>
        <mesh
          filename="package://Urdf_ConfigFiles/meshes/LB_XI_LINK.STL" />
      </geometry>
    </collision>
  </link>
  <joint
    name="LB_XI_JOINT"
    type="revolute">
    <origin
      xyz="0.043146 0 0.004675"
      rpy="0 0 -1.5708" />
    <parent
      link="LB_ZHOU_LINK" />
    <child
      link="LB_XI_LINK" />
    <axis
      xyz="0 0 1" />
    <limit
      lower="-1.5708"
      upper="1.5708"
      effort="0"
      velocity="0" />
  </joint>
  <link
    name="LB_R_LINK">
    <inertial>
      <origin
        xyz="0 1.38777878078145E-17 -1.38777878078145E-17"
        rpy="0 0 0" />
      <mass
        value="5.23598775598299E-07" />
      <inertia
        ixx="5.23598775598299E-14"
        ixy="-1.46626343100792E-72"
        ixz="0"
        iyy="5.23598775598299E-14"
        iyz="0"
        izz="5.23598775598299E-14" />
    </inertial>
    <visual>
      <origin
        xyz="0 0 0"
        rpy="0 0 0" />
      <geometry>
        <mesh
          filename="package://Urdf_ConfigFiles/meshes/LB_R_LINK.STL" />
      </geometry>
      <material
        name="">
        <color
          rgba="1 1 1 1" />
      </material>
    </visual>
    <collision>
      <origin
        xyz="0 0 0"
        rpy="0 0 0" />
      <geometry>
        <mesh
          filename="package://Urdf_ConfigFiles/meshes/LB_R_LINK.STL" />
      </geometry>
    </collision>
  </link>
  <joint
    name="LB_R_JOINT"
    type="revolute">
    <origin
      xyz="0.10465 -5E-05 0"
      rpy="1.5708 -0.7854 -1.5708" />
    <parent
      link="LB_XI_LINK" />
    <child
      link="LB_R_LINK" />
    <axis
      xyz="0 0 -1" />
    <limit
      lower="-1.5708"
      upper="1.5708"
      effort="0"
      velocity="0" />
  </joint>
  <link
    name="LB_P_LINK">
    <inertial>
      <origin
        xyz="1.38777878078145E-17 1.38777878078145E-17 0"
        rpy="0 0 0" />
      <mass
        value="5.23598775598299E-07" />
      <inertia
        ixx="5.23598775598299E-14"
        ixy="0"
        ixz="0"
        iyy="5.23598775598299E-14"
        iyz="-1.46626343100792E-72"
        izz="5.23598775598299E-14" />
    </inertial>
    <visual>
      <origin
        xyz="0 0 0"
        rpy="0 0 0" />
      <geometry>
        <mesh
          filename="package://Urdf_ConfigFiles/meshes/LB_P_LINK.STL" />
      </geometry>
      <material
        name="">
        <color
          rgba="1 1 1 1" />
      </material>
    </visual>
    <collision>
      <origin
        xyz="0 0 0"
        rpy="0 0 0" />
      <geometry>
        <mesh
          filename="package://Urdf_ConfigFiles/meshes/LB_P_LINK.STL" />
      </geometry>
    </collision>
  </link>
  <joint
    name="LB_P_JOINT"
    type="revolute">
    <origin
      xyz="0 0 0"
      rpy="0 1.5708 0" />
    <parent
      link="LB_R_LINK" />
    <child
      link="LB_P_LINK" />
    <axis
      xyz="0 0 -1" />
    <limit
      lower="-1.5708"
      upper="1.5708"
      effort="0"
      velocity="0" />
  </joint>
  <link
    name="LB_Y_LINK">
    <inertial>
      <origin
        xyz="1.38777878078145E-17 0 -1.38777878078145E-17"
        rpy="0 0 0" />
      <mass
        value="5.23598775598299E-07" />
      <inertia
        ixx="5.23598775598299E-14"
        ixy="0"
        ixz="0"
        iyy="5.23598775598299E-14"
        iyz="1.46626343100792E-72"
        izz="5.23598775598299E-14" />
    </inertial>
    <visual>
      <origin
        xyz="0 0 0"
        rpy="0 0 0" />
      <geometry>
        <mesh
          filename="package://Urdf_ConfigFiles/meshes/LB_Y_LINK.STL" />
      </geometry>
      <material
        name="">
        <color
          rgba="1 1 1 1" />
      </material>
    </visual>
    <collision>
      <origin
        xyz="0 0 0"
        rpy="0 0 0" />
      <geometry>
        <mesh
          filename="package://Urdf_ConfigFiles/meshes/LB_Y_LINK.STL" />
      </geometry>
    </collision>
  </link>
  <joint
    name="LB_Y_JOINT"
    type="revolute">
    <origin
      xyz="0 0 0"
      rpy="1.5708 0 0" />
    <parent
      link="LB_P_LINK" />
    <child
      link="LB_Y_LINK" />
    <axis
      xyz="0 0 -1" />
    <limit
      lower="-1.5708"
      upper="1.5708"
      effort="0"
      velocity="0" />
  </joint>
  <link
    name="RB_JIAN_LINK">
    <inertial>
      <origin
        xyz="0.0187543594239746 -0.000379261041653135 0.000812950580056313"
        rpy="0 0 0" />
      <mass
        value="0.006998228698532" />
      <inertia
        ixx="9.56104624157522E-07"
        ixy="-3.93695610685717E-10"
        ixz="-7.71981360439396E-11"
        iyy="6.83941781705483E-07"
        iyz="5.40143195603111E-12"
        izz="6.8461249538711E-07" />
    </inertial>
    <visual>
      <origin
        xyz="0 0 0"
        rpy="0 0 0" />
      <geometry>
        <mesh
          filename="package://Urdf_ConfigFiles/meshes/RB_JIAN_LINK.STL" />
      </geometry>
      <material
        name="">
        <color
          rgba="0.752941176470588 0.752941176470588 0.752941176470588 1" />
      </material>
    </visual>
    <collision>
      <origin
        xyz="0 0 0"
        rpy="0 0 0" />
      <geometry>
        <mesh
          filename="package://Urdf_ConfigFiles/meshes/RB_JIAN_LINK.STL" />
      </geometry>
    </collision>
  </link>
  <joint
    name="RB_JIAN_JOINT"
    type="revolute">
    <origin
      xyz="-0.077746 -0.036979 0.0047"
      rpy="0 0 -2.3562" />
    <parent
      link="base_link" />
    <child
      link="RB_JIAN_LINK" />
    <axis
      xyz="0 0 1" />
    <limit
      lower="-1.5708"
      upper="1.5708"
      effort="0"
      velocity="0" />
  </joint>
  <link
    name="RB_ZHOU_LINK">
    <inertial>
      <origin
        xyz="0.0212109520761939 -1.20023545564949E-05 0.00316723430027723"
        rpy="0 0 0" />
      <mass
        value="0.0234278880988858" />
      <inertia
        ixx="1.44006193709275E-06"
        ixy="-4.5103100067366E-12"
        ixz="1.20744314755842E-14"
        iyy="3.27264695062257E-06"
        iyz="-5.76935427448541E-15"
        izz="2.55438959467175E-06" />
    </inertial>
    <visual>
      <origin
        xyz="0 0 0"
        rpy="0 0 0" />
      <geometry>
        <mesh
          filename="package://Urdf_ConfigFiles/meshes/RB_ZHOU_LINK.STL" />
      </geometry>
      <material
        name="">
        <color
          rgba="0.752941176470588 0.752941176470588 0.752941176470588 1" />
      </material>
    </visual>
    <collision>
      <origin
        xyz="0 0 0"
        rpy="0 0 0" />
      <geometry>
        <mesh
          filename="package://Urdf_ConfigFiles/meshes/RB_ZHOU_LINK.STL" />
      </geometry>
    </collision>
  </link>
  <joint
    name="RB_ZHOU_JOINT"
    type="revolute">
    <origin
      xyz="0.03995 0.0047 0"
      rpy="1.5708 0 0" />
    <parent
      link="RB_JIAN_LINK" />
    <child
      link="RB_ZHOU_LINK" />
    <axis
      xyz="0 0 1" />
    <limit
      lower="-1.5708"
      upper="1.5708"
      effort="0"
      velocity="0" />
  </joint>
  <link
    name="RB_XI_LINK">
    <inertial>
      <origin
        xyz="0.0466384689069637 -7.84328003208268E-05 0.000588778477363723"
        rpy="0 0 0" />
      <mass
        value="0.00724422084311934" />
      <inertia
        ixx="4.47759491534585E-07"
        ixy="-3.05207207868226E-11"
        ixz="-3.89529951404065E-10"
        iyy="3.11680934014373E-06"
        iyz="5.4013670429911E-12"
        izz="2.82563849119695E-06" />
    </inertial>
    <visual>
      <origin
        xyz="0 0 0"
        rpy="0 0 0" />
      <geometry>
        <mesh
          filename="package://Urdf_ConfigFiles/meshes/RB_XI_LINK.STL" />
      </geometry>
      <material
        name="">
        <color
          rgba="0.752941176470588 0.752941176470588 0.752941176470588 1" />
      </material>
    </visual>
    <collision>
      <origin
        xyz="0 0 0"
        rpy="0 0 0" />
      <geometry>
        <mesh
          filename="package://Urdf_ConfigFiles/meshes/RB_XI_LINK.STL" />
      </geometry>
    </collision>
  </link>
  <joint
    name="RB_XI_JOINT"
    type="revolute">
    <origin
      xyz="0.043146 0 0.004675"
      rpy="0 0 -1.5708" />
    <parent
      link="RB_ZHOU_LINK" />
    <child
      link="RB_XI_LINK" />
    <axis
      xyz="0 0 1" />
    <limit
      lower="-1.5708"
      upper="1.5708"
      effort="0"
      velocity="0" />
  </joint>
  <link
    name="RB_R_LINK">
    <inertial>
      <origin
        xyz="0 -2.77555756156289E-17 -1.38777878078145E-17"
        rpy="0 0 0" />
      <mass
        value="5.23598775598299E-07" />
      <inertia
        ixx="5.23598775598299E-14"
        ixy="-1.46626343100792E-72"
        ixz="0"
        iyy="5.23598775598299E-14"
        iyz="0"
        izz="5.23598775598299E-14" />
    </inertial>
    <visual>
      <origin
        xyz="0 0 0"
        rpy="0 0 0" />
      <geometry>
        <mesh
          filename="package://Urdf_ConfigFiles/meshes/RB_R_LINK.STL" />
      </geometry>
      <material
        name="">
        <color
          rgba="1 1 1 1" />
      </material>
    </visual>
    <collision>
      <origin
        xyz="0 0 0"
        rpy="0 0 0" />
      <geometry>
        <mesh
          filename="package://Urdf_ConfigFiles/meshes/RB_R_LINK.STL" />
      </geometry>
    </collision>
  </link>
  <joint
    name="RB_R_JOINT"
    type="revolute">
    <origin
      xyz="0.10465 -5E-05 0"
      rpy="1.5708 0.7854 -1.5708" />
    <parent
      link="RB_XI_LINK" />
    <child
      link="RB_R_LINK" />
    <axis
      xyz="0 0 -1" />
    <limit
      lower="-1.5708"
      upper="1.5708"
      effort="0"
      velocity="0" />
  </joint>
  <link
    name="RB_P_LINK">
    <inertial>
      <origin
        xyz="1.38777878078145E-17 0 0"
        rpy="0 0 0" />
      <mass
        value="5.23598775598299E-07" />
      <inertia
        ixx="5.23598775598299E-14"
        ixy="0"
        ixz="0"
        iyy="5.23598775598299E-14"
        iyz="-1.46626343100792E-72"
        izz="5.23598775598299E-14" />
    </inertial>
    <visual>
      <origin
        xyz="0 0 0"
        rpy="0 0 0" />
      <geometry>
        <mesh
          filename="package://Urdf_ConfigFiles/meshes/RB_P_LINK.STL" />
      </geometry>
      <material
        name="">
        <color
          rgba="1 1 1 1" />
      </material>
    </visual>
    <collision>
      <origin
        xyz="0 0 0"
        rpy="0 0 0" />
      <geometry>
        <mesh
          filename="package://Urdf_ConfigFiles/meshes/RB_P_LINK.STL" />
      </geometry>
    </collision>
  </link>
  <joint
    name="RB_P_JOINT"
    type="revolute">
    <origin
      xyz="0 0 0"
      rpy="0 1.5708 0" />
    <parent
      link="RB_R_LINK" />
    <child
      link="RB_P_LINK" />
    <axis
      xyz="0 0 -1" />
    <limit
      lower="-1.5708"
      upper="1.5708"
      effort="0"
      velocity="0" />
  </joint>
  <link
    name="RB_Y_LINK">
    <inertial>
      <origin
        xyz="1.38777878078145E-17 0 0"
        rpy="0 0 0" />
      <mass
        value="5.23598775598299E-07" />
      <inertia
        ixx="5.23598775598299E-14"
        ixy="0"
        ixz="0"
        iyy="5.23598775598299E-14"
        iyz="1.46626343100792E-72"
        izz="5.23598775598299E-14" />
    </inertial>
    <visual>
      <origin
        xyz="0 0 0"
        rpy="0 0 0" />
      <geometry>
        <mesh
          filename="package://Urdf_ConfigFiles/meshes/RB_Y_LINK.STL" />
      </geometry>
      <material
        name="">
        <color
          rgba="1 1 1 1" />
      </material>
    </visual>
    <collision>
      <origin
        xyz="0 0 0"
        rpy="0 0 0" />
      <geometry>
        <mesh
          filename="package://Urdf_ConfigFiles/meshes/RB_Y_LINK.STL" />
      </geometry>
    </collision>
  </link>
  <joint
    name="RB_Y_JOINT"
    type="revolute">
    <origin
      xyz="0 0 0"
      rpy="1.5708 0 0" />
    <parent
      link="RB_P_LINK" />
    <child
      link="RB_Y_LINK" />
    <axis
      xyz="0 0 -1" />
    <limit
      lower="-1.5708"
      upper="1.5708"
      effort="0"
      velocity="0" />
  </joint>
</robot>
